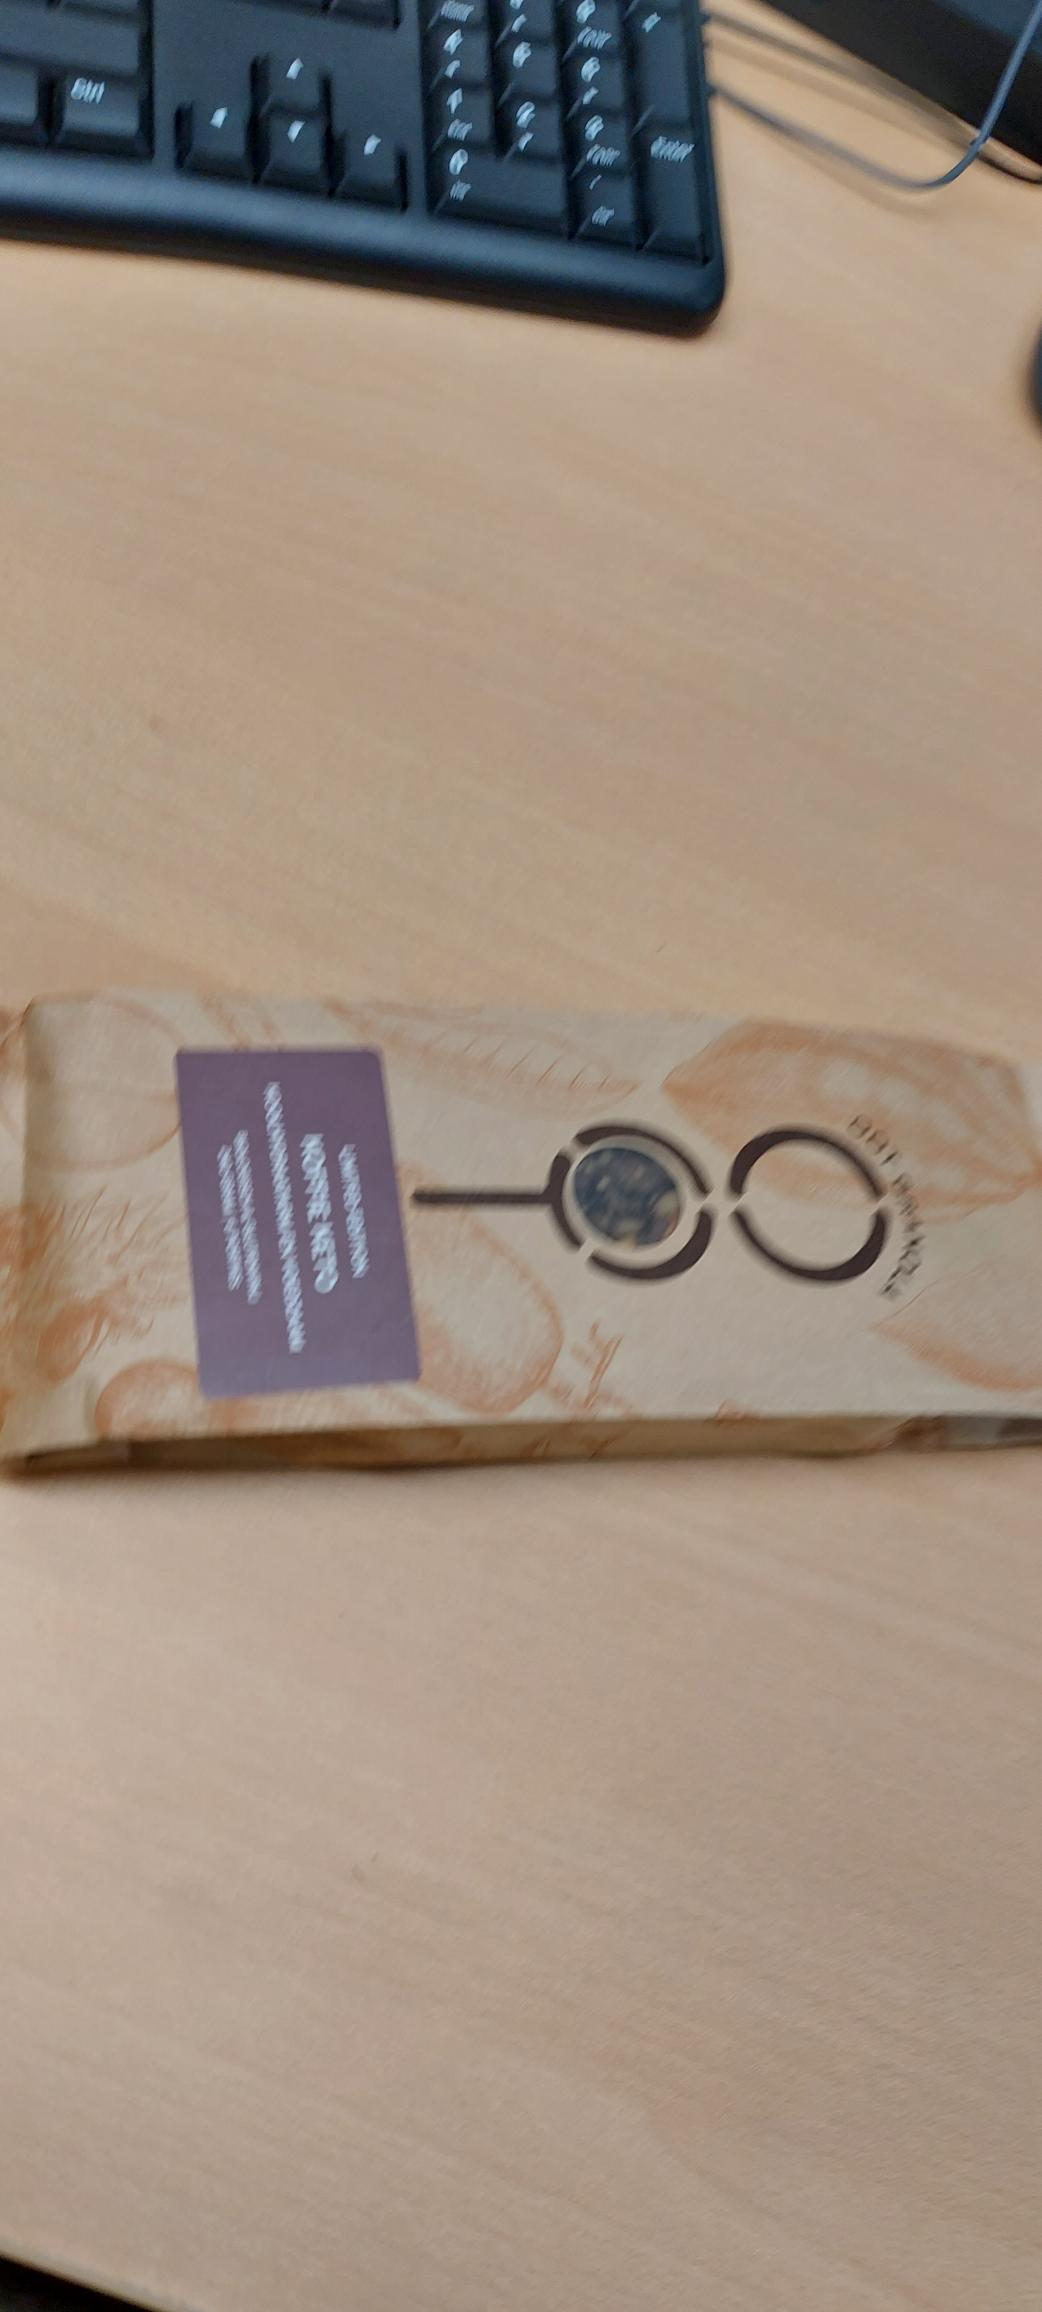KoffieKeto: (167, 1026, 441, 1402)
